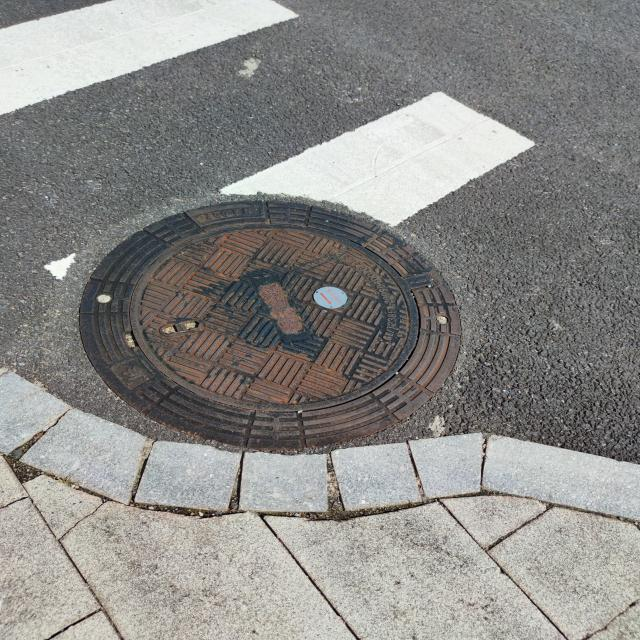Good: (74, 191, 473, 460)
